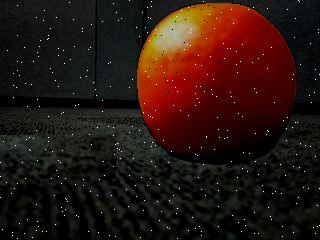Orange: (137, 3, 297, 166)
